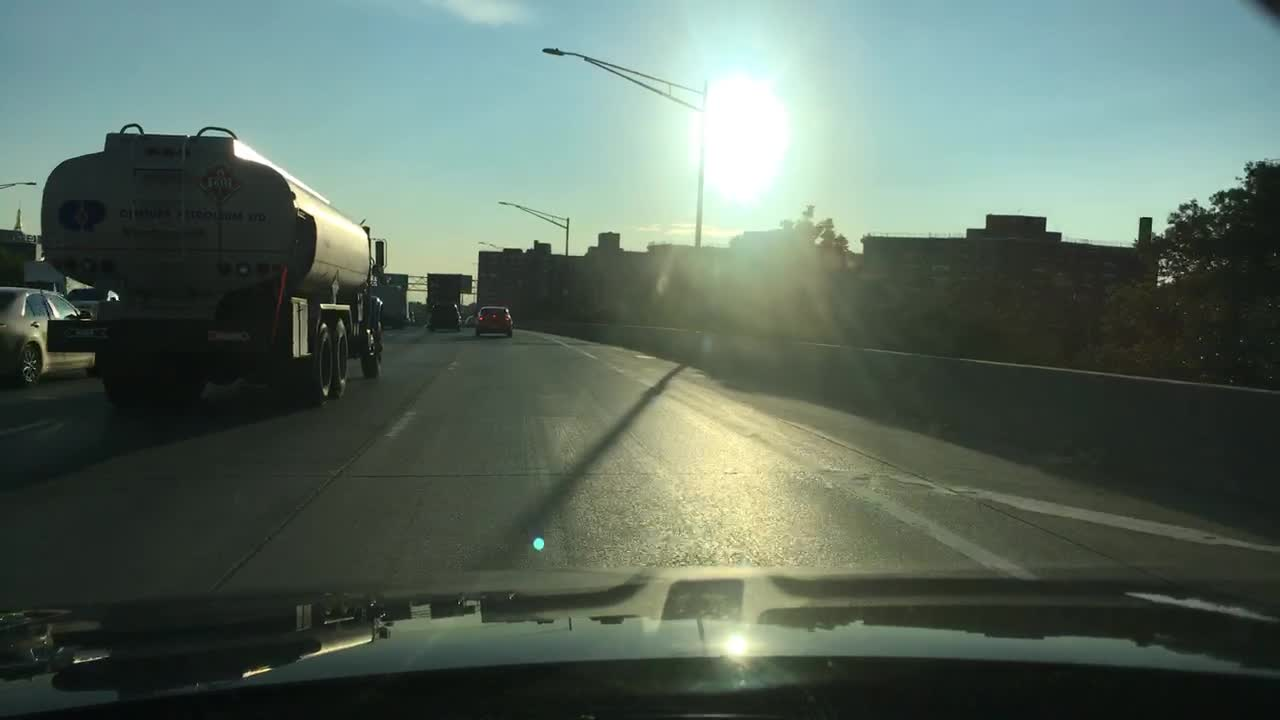car: (0, 288, 98, 386), (476, 306, 511, 336), (427, 304, 462, 331), (66, 289, 98, 315)
traffic sign: (427, 272, 460, 288), (378, 273, 408, 286), (461, 274, 476, 293)
truck: (39, 122, 386, 408), (376, 286, 415, 325), (426, 289, 464, 300)
